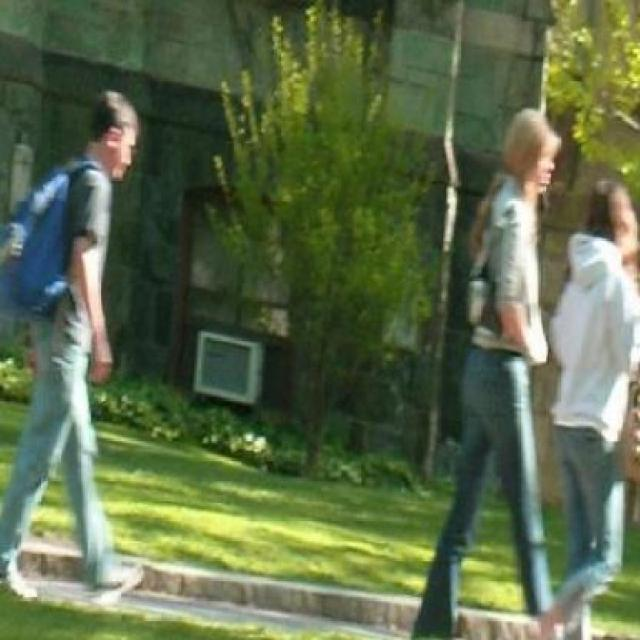Person: (410, 106, 567, 639), (0, 84, 148, 619), (534, 171, 638, 638)
